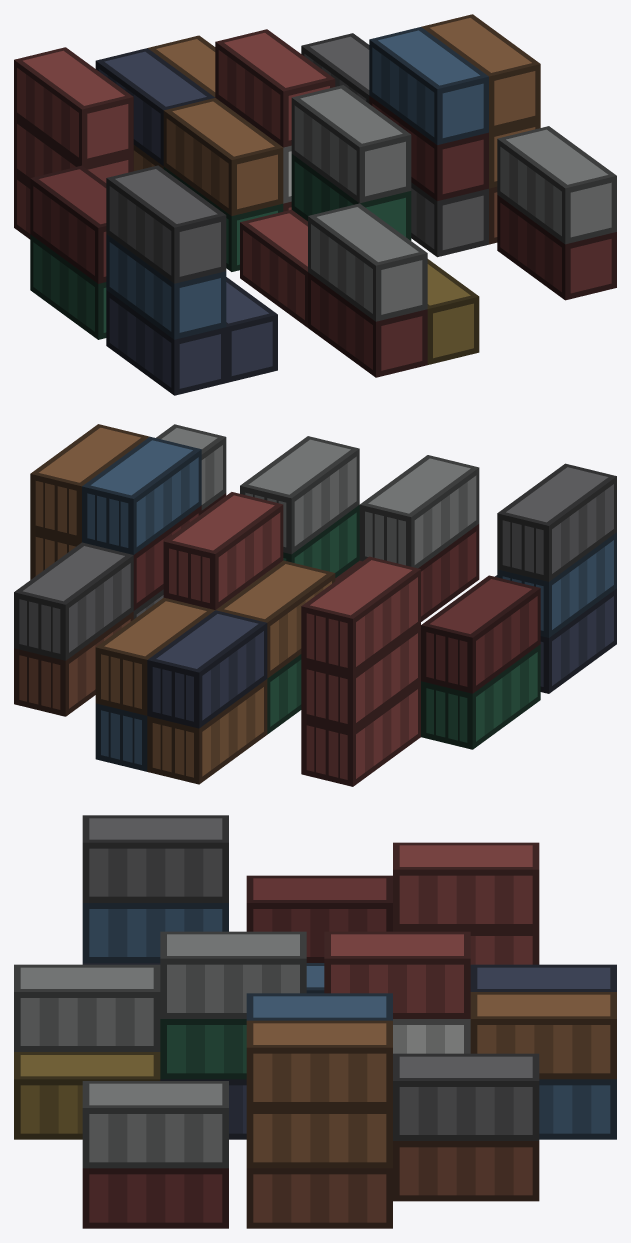
The model's file is foliage-rows.glb.
3 renders of one model, top to bottom at view 1: azimuth 30°, elevation 25°; view 2: azimuth 150°, elevation 25°; view 3: azimuth 270°, elevation 25°, orthographic. The views are drawn at different scales.
Visible parts, largest first — view 1: foliage-rows; view 2: foliage-rows; view 3: foliage-rows.
Boxes of the visible parts, x1,y1,x2,y2 form: foliage-rows: [14, 14, 616, 395]; foliage-rows: [14, 424, 616, 786]; foliage-rows: [14, 815, 616, 1228].
Bounding box in the file's own units: 49.6 × 18 × 54.4.
